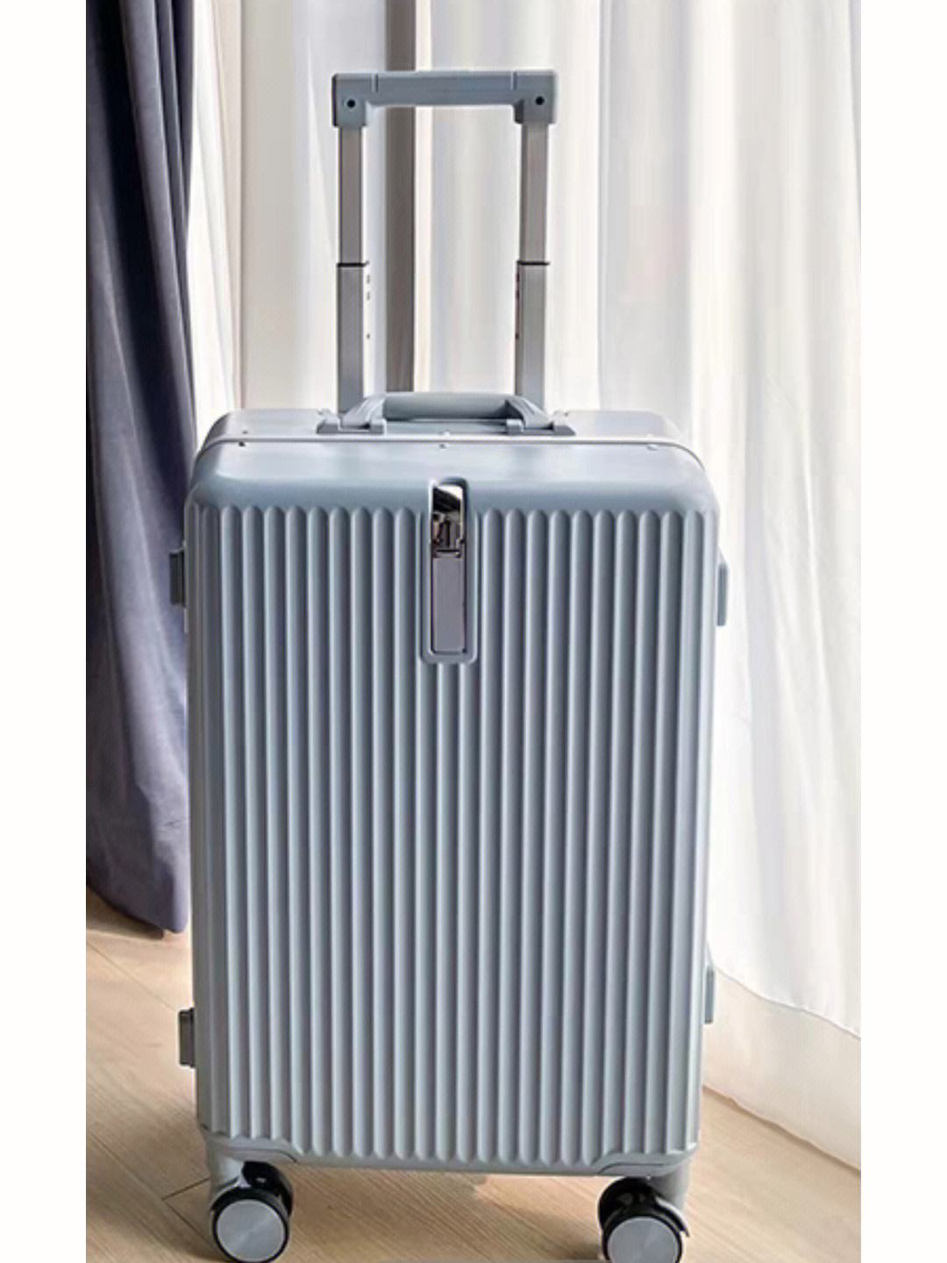box: (189, 406, 720, 1177)
handle: (332, 390, 565, 432)
wheel: (210, 1160, 295, 1263), (596, 1177, 685, 1263)
